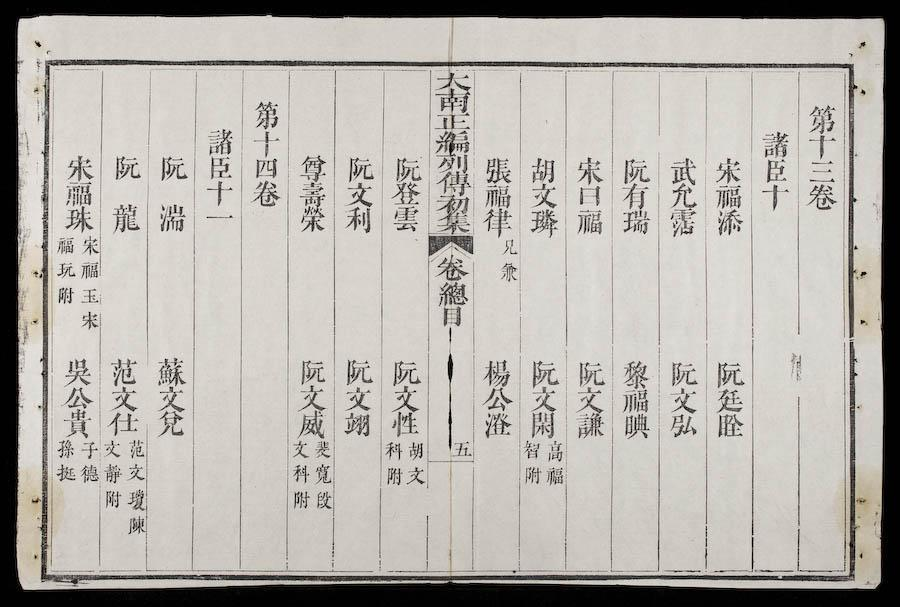c: (805, 102, 838, 134), (60, 355, 94, 386), (154, 355, 188, 386), (109, 201, 141, 233), (155, 201, 188, 232), (59, 408, 94, 437), (434, 254, 470, 282), (108, 355, 140, 386), (480, 357, 513, 387), (480, 209, 514, 237), (433, 130, 471, 155), (574, 154, 605, 184), (713, 359, 745, 388), (619, 359, 651, 388), (528, 358, 560, 387), (759, 129, 791, 158), (712, 155, 744, 184), (344, 154, 376, 183), (342, 357, 374, 386), (666, 208, 698, 237), (482, 155, 514, 184), (154, 410, 187, 438), (805, 183, 838, 211), (389, 358, 422, 386), (251, 99, 281, 129), (667, 155, 698, 184), (204, 126, 235, 155), (297, 152, 328, 181), (110, 153, 142, 181), (63, 153, 95, 181), (667, 359, 699, 387), (574, 359, 606, 387), (713, 208, 745, 236), (295, 411, 328, 438), (295, 384, 328, 411), (573, 413, 606, 440), (106, 411, 141, 436), (620, 156, 651, 184), (574, 208, 605, 236), (528, 209, 559, 237), (620, 413, 652, 440), (157, 154, 189, 181), (435, 171, 471, 195), (249, 180, 281, 207), (433, 70, 472, 92), (61, 207, 95, 232), (436, 282, 470, 307), (59, 385, 94, 409), (390, 206, 421, 233), (392, 155, 423, 182), (433, 91, 471, 113), (107, 385, 139, 411), (203, 180, 235, 206), (481, 412, 513, 438), (619, 210, 652, 235), (528, 156, 557, 184), (297, 206, 327, 233), (667, 413, 698, 439), (759, 184, 790, 210), (667, 388, 698, 414), (343, 207, 374, 233), (619, 183, 650, 209), (713, 184, 744, 210), (806, 134, 838, 159), (62, 181, 94, 206), (481, 387, 513, 412), (435, 195, 471, 217), (297, 358, 327, 384), (390, 386, 420, 412), (155, 386, 186, 411), (620, 389, 651, 414), (574, 388, 605, 413), (297, 182, 328, 207), (389, 412, 420, 437), (806, 158, 838, 182), (390, 182, 422, 206), (434, 214, 472, 234), (528, 412, 557, 438), (251, 130, 281, 155), (760, 158, 790, 183), (714, 413, 744, 438), (714, 388, 744, 413), (343, 387, 373, 412), (528, 184, 558, 209), (342, 412, 373, 436), (343, 183, 374, 207), (482, 185, 513, 209), (529, 387, 558, 412), (668, 184, 698, 208), (205, 156, 234, 180), (251, 156, 280, 179), (434, 154, 471, 172), (433, 114, 472, 131), (575, 185, 604, 207), (201, 210, 236, 227), (439, 306, 465, 327), (497, 261, 519, 284), (125, 514, 147, 536), (78, 309, 100, 331), (102, 461, 123, 484), (78, 259, 101, 280), (126, 487, 146, 511), (521, 439, 542, 461), (55, 438, 77, 459), (55, 235, 77, 256), (290, 462, 311, 484), (101, 489, 122, 510), (78, 462, 99, 483), (291, 489, 312, 510), (544, 465, 565, 486), (383, 440, 404, 461), (55, 462, 77, 482), (545, 440, 564, 463), (101, 439, 122, 459), (522, 465, 543, 485), (126, 438, 146, 459), (384, 465, 404, 486), (80, 235, 100, 256), (406, 465, 426, 486), (313, 462, 332, 484), (55, 260, 77, 279), (290, 439, 310, 459), (56, 285, 76, 305), (314, 489, 333, 510), (79, 286, 100, 305), (79, 439, 98, 459), (126, 462, 145, 482), (499, 238, 518, 258), (312, 439, 331, 459), (406, 440, 425, 460), (453, 441, 471, 457)
